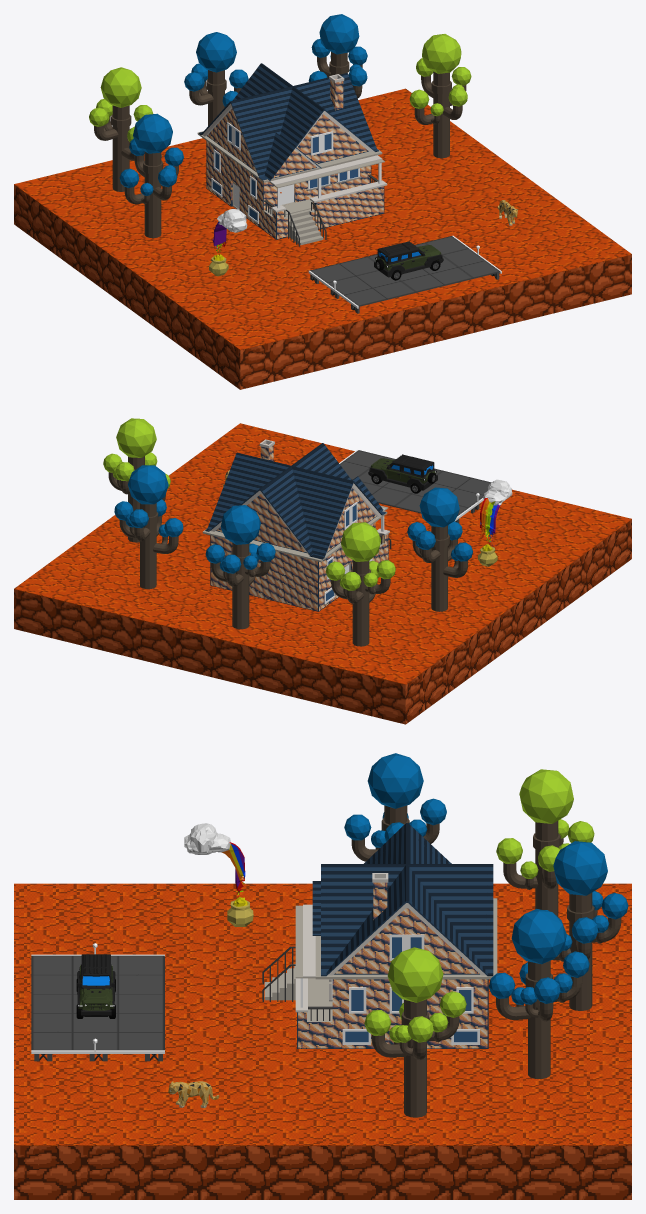
3 renders of one model, top to bottom at view 1: azimuth 30°, elevation 25°; view 2: azimuth 150°, elevation 25°; view 3: azimuth 270°, elevation 25°, orthographic. The views are drawn at different scales.
Visible parts, largest first — view 1: Cube.001, Cube.430, VEHICLES_JEEP, OBJRANDOM_RAINBOW; view 2: Cube.001, Cube.430, VEHICLES_JEEP, OBJRANDOM_RAINBOW; view 3: Cube.001, Cube.430, VEHICLES_JEEP, OBJRANDOM_RAINBOW, ANIMAL_JAGUAR.
Boxes of the visible parts, left/top/right/bottom form: Cube.001: left=14, top=14, right=631, bottom=389; Cube.430: left=197, top=63, right=387, bottom=246; VEHICLES_JEEP: left=374, top=241, right=443, bottom=280; OBJRANDOM_RAINBOW: left=209, top=209, right=247, bottom=276; Cube.001: left=14, top=418, right=631, bottom=724; Cube.430: left=202, top=439, right=391, bottom=611; VEHICLES_JEEP: left=368, top=454, right=437, bottom=493; OBJRANDOM_RAINBOW: left=478, top=479, right=512, bottom=566; Cube.001: left=14, top=753, right=631, bottom=1199; Cube.430: left=262, top=823, right=497, bottom=1048; VEHICLES_JEEP: left=76, top=954, right=115, bottom=1018; OBJRANDOM_RAINBOW: left=184, top=823, right=253, bottom=926; ANIMAL_JAGUAR: left=168, top=1081, right=219, bottom=1108.
Size of the model in its own units: 4000 by 1672 by 4000.
40 materials, 5 textured.
